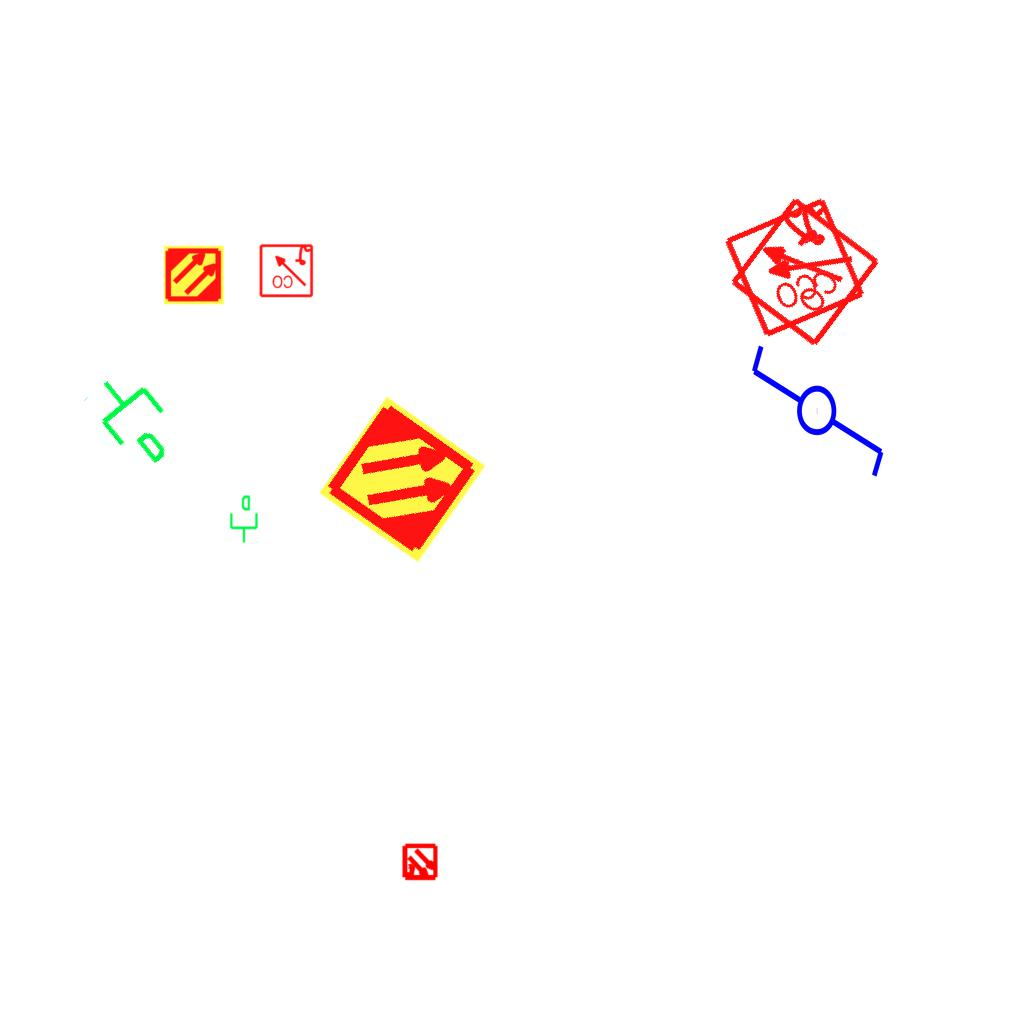ASR_Ansaugrauchmelder: (315, 392, 490, 567), (163, 244, 225, 306)
Datenanschluss_einfach: (78, 357, 195, 479), (226, 494, 260, 544)
OT_Multisensormelder_(Kombination_RMO_WMD): (392, 835, 448, 891)
ROA_Rauchmelder_optisch_mit_Signalgeber_(Sockelsirene): (724, 192, 883, 351), (719, 192, 868, 341), (258, 242, 314, 298)
Wechselschalter: (747, 324, 891, 481)
